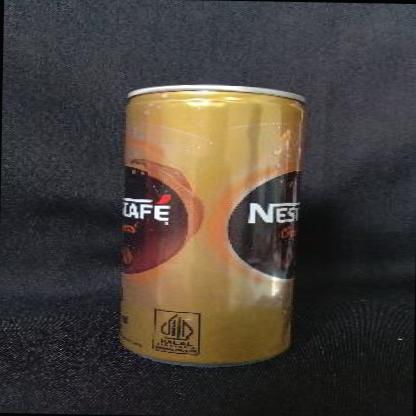alumunium_can: (117, 82, 306, 368)
